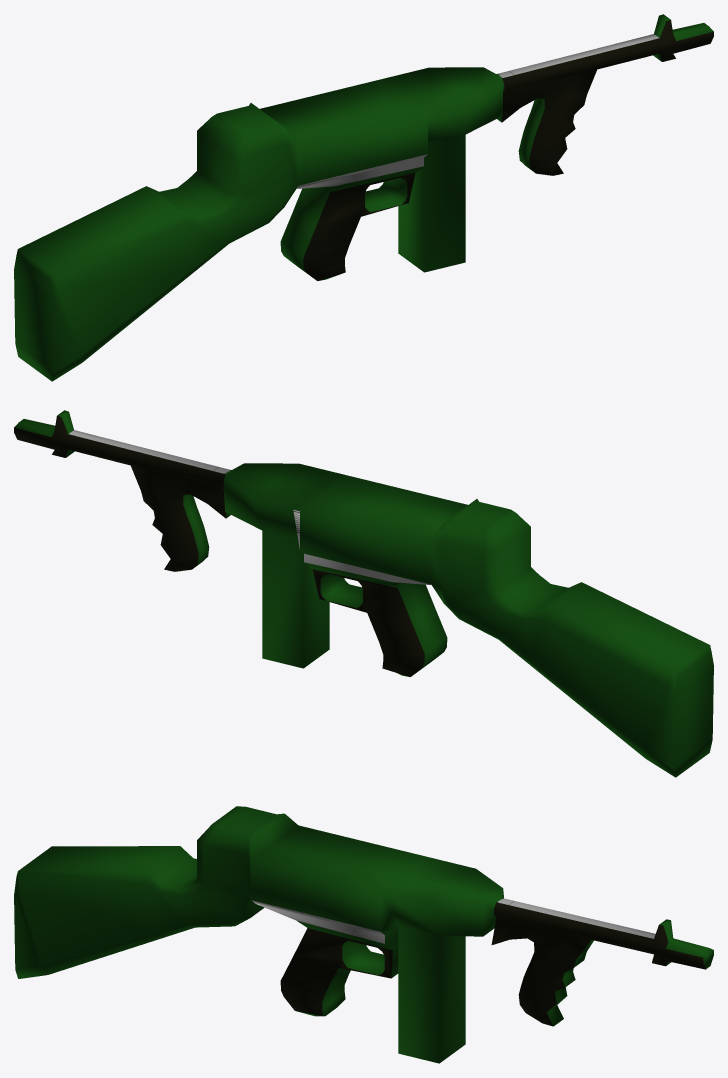
File: subfusil.obj
3 renders of one model, top to bottom at view 1: azimuth 30°, elevation 25°; view 2: azimuth 150°, elevation 25°; view 3: azimuth 330°, elevation 25°, orthographic.
Parts seen in each view (by area): view 1: subfusil_subfusil.001; view 2: subfusil_subfusil.001; view 3: subfusil_subfusil.001.
Boxes of the visible parts, left/top/right/bottom form: subfusil_subfusil.001: left=14, top=14, right=713, bottom=381; subfusil_subfusil.001: left=14, top=410, right=713, bottom=777; subfusil_subfusil.001: left=14, top=806, right=713, bottom=1063.
Size of the model in its own units: 1.36 by 0.382 by 0.1652.
